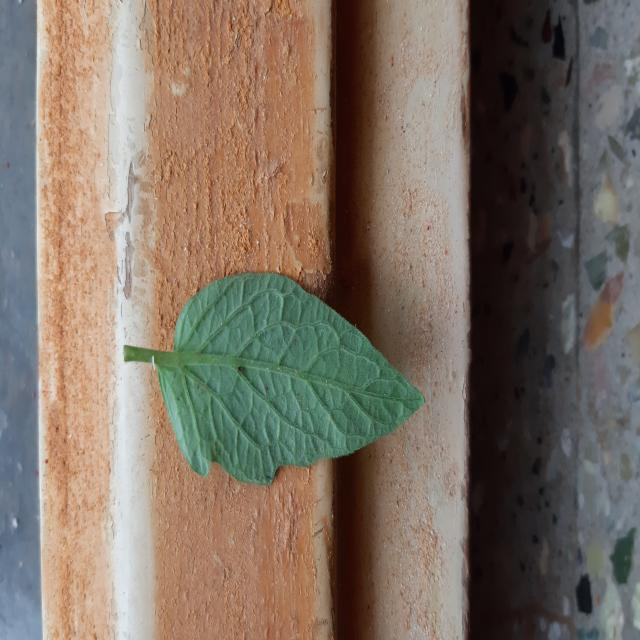tomato: (124, 273, 424, 484)
